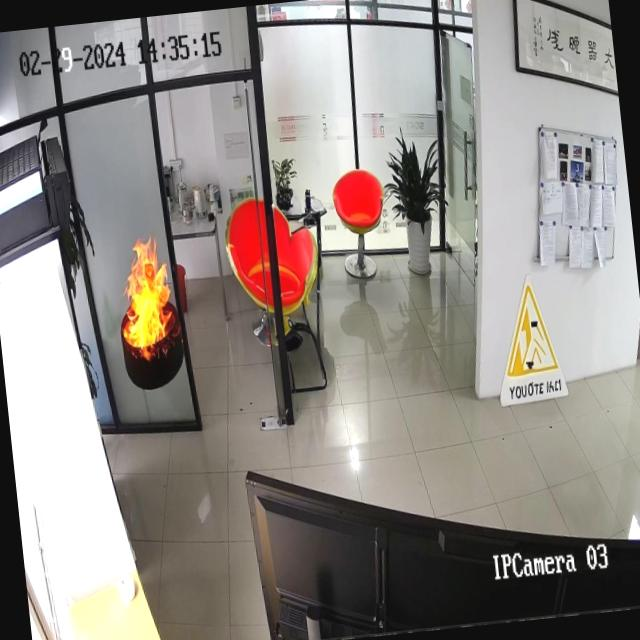fire: (95, 192, 202, 389)
